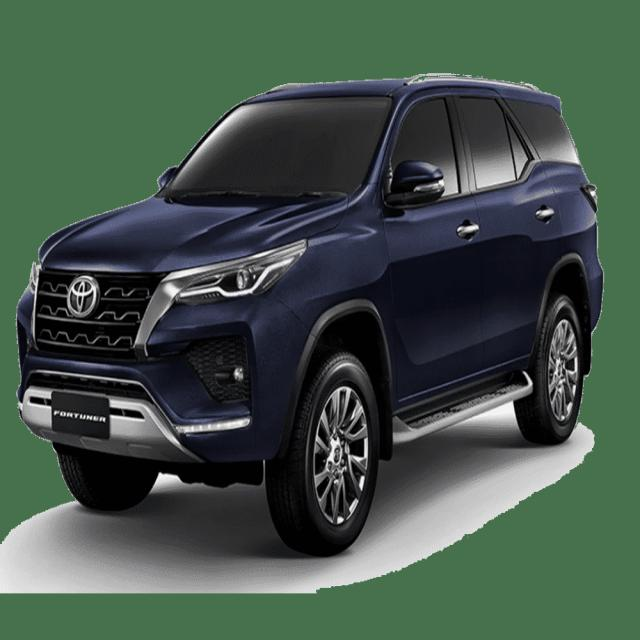light_vehicle: (16, 73, 604, 559)
